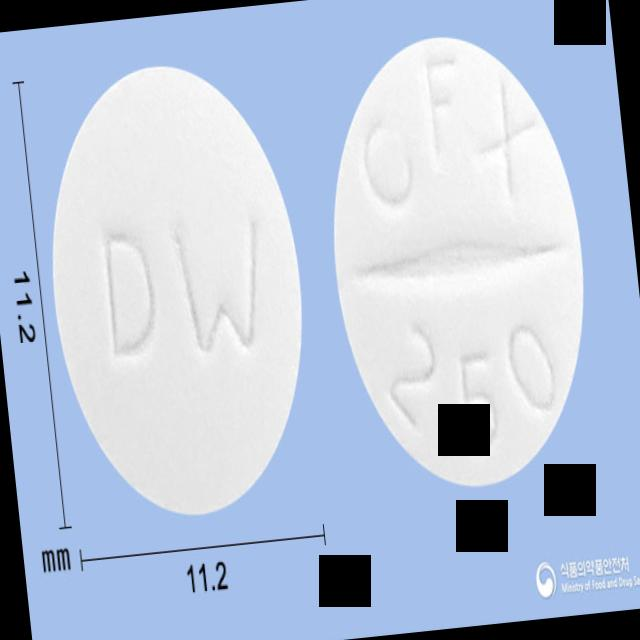Ciplus: (26, 47, 330, 536), (311, 16, 608, 502)
